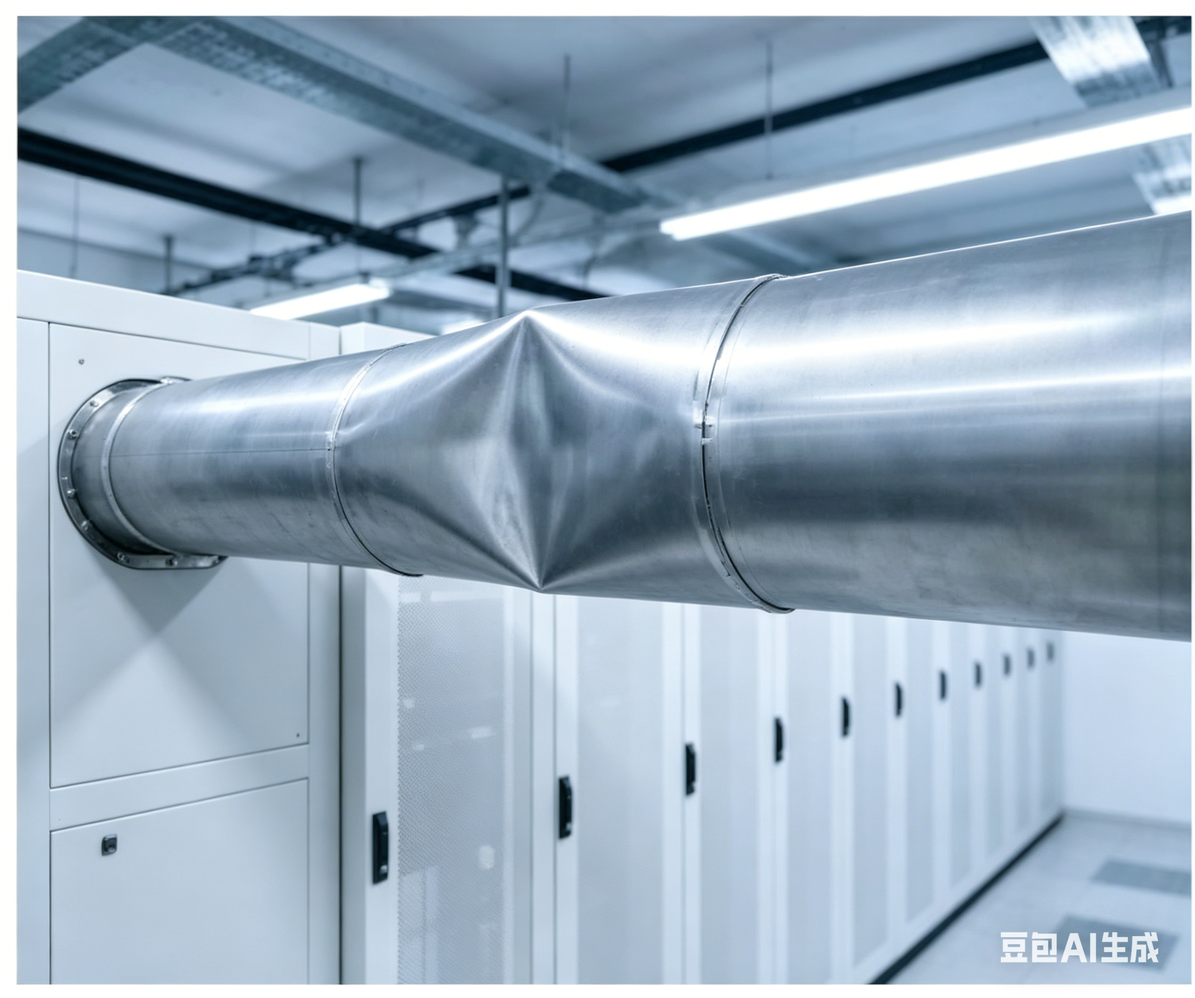Leakage: (405, 312, 677, 611)
